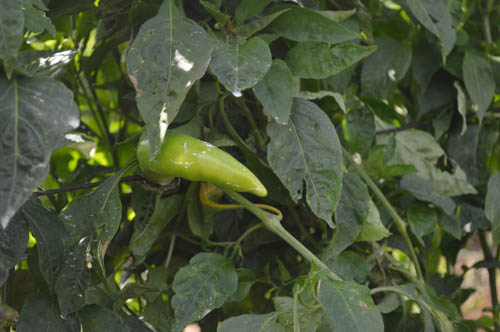ChiliPepper: (134, 133, 268, 199)
